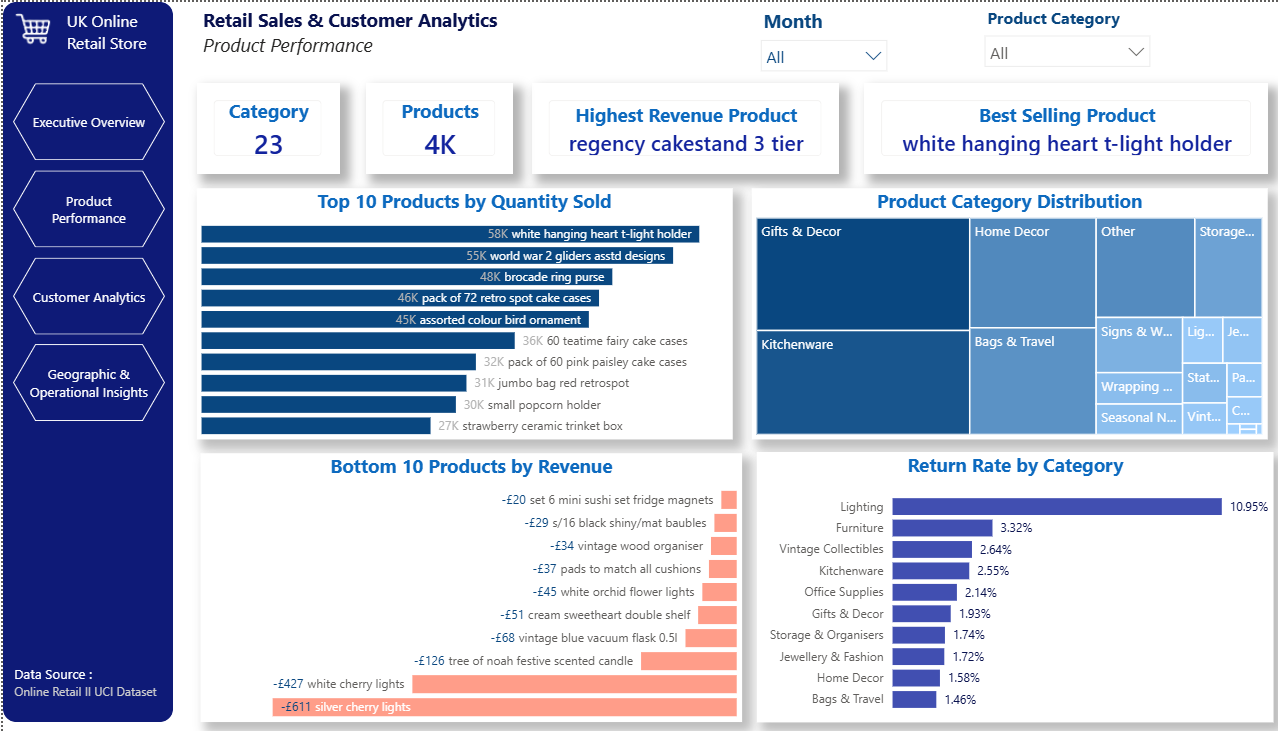

The dashboard page shown, as its layout file describes it:
{"tool":"powerbi","page":{"name":"Product Performance","canvas":[1280,731],"ordinal":1},"visuals":[{"type":"group","id":"g1","title":"Group 1","box":[0,0,170,720],"z":0},{"type":"textbox","box":[6.9,656.9,155.1,63.1],"z":1000},{"type":"group","id":"g2","title":"Group 2","box":[194.9,0,961.6,72.9],"z":2000},{"type":"cardVisual","title":"Product Category","fields":{"Data":["Sales.Category"]},"box":[194.3,81.4,142.9,90],"z":3000},{"type":"textbox","box":[194.9,0,334.8,60.4],"z":4000,"group":"g2"},{"type":"cardVisual","fields":{"Data":["CategoryLookup.Products"]},"box":[362.9,81.4,147.1,90],"z":4000},{"type":"cardVisual","fields":{"Data":["Sales.Best Selling Product"]},"box":[528.6,81.4,307.1,90],"z":5000},{"type":"shape","box":[0,0,170,720],"z":6000,"group":"g1"},{"type":"cardVisual","fields":{"Data":["Sales.Best Selling Product1"]},"box":[861.4,81.4,404.3,90],"z":6000},{"type":"image","box":[8.8,10,42.5,33.8],"z":7000,"group":"g1"},{"type":"clusteredBarChart","title":"Top 10 Products by Quantity Sold","fields":{"Category":["Sales.Description"],"Y":["Sum(Sales.Quantity)"]},"box":[194.3,186.7,535.7,251.4],"z":7000},{"type":"textbox","box":[58.8,2.5,103.8,57.5],"z":8000,"group":"g1"},{"type":"barChart","title":"Bottom 10 Products by Revenue","fields":{"Y":["CategoryLookup.Total Revenue"],"Category":["Sales.Description"]},"box":[197.1,451.4,541.4,268.6],"z":8000},{"type":"pageNavigator","box":[10,81.4,152.9,341.4],"z":8500,"group":"g1"},{"type":"treemap","title":"Product Category Distribution","fields":{"Group":["Sales.Product Category"],"Values":["CategoryLookup.Total Revenue"]},"box":[748.6,186.7,515.7,251.4],"z":9000},{"type":"slicer","fields":{"Values":["Date Table.Month Name","Date Table.Year"]},"box":[747.9,1.4,146.8,70],"z":10000,"group":"g2"},{"type":"clusteredBarChart","title":"Return Rate by Category","fields":{"Category":["Sales.Product Category"],"Y":["CategoryLookup.Return Rate %"]},"box":[754.3,450,517.1,270],"z":10000},{"type":"slicer","fields":{"Values":["Sales.Product Category"]},"box":[970.8,0,185.7,72.9],"z":11000,"group":"g2"}]}

Visuals, with their boxes on the page's 1280x731 design canvas (x1, y1, x2, y2). These are canvas units, not pixel positions in the 1278x731 screenshot, which may show the page scaled, cropped or inside an application window:
"Group 1" group: [left=0, top=0, right=170, bottom=720]
textbox: [left=7, top=657, right=162, bottom=720]
"Group 2" group: [left=195, top=0, right=1156, bottom=73]
"Product Category" cardVisual: [left=194, top=81, right=337, bottom=171]
textbox: [left=195, top=0, right=530, bottom=60]
cardVisual - CategoryLookup.Products: [left=363, top=81, right=510, bottom=171]
cardVisual - Sales.Best Selling Product: [left=529, top=81, right=836, bottom=171]
shape: [left=0, top=0, right=170, bottom=720]
cardVisual - Sales.Best Selling Product1: [left=861, top=81, right=1266, bottom=171]
image: [left=9, top=10, right=51, bottom=44]
"Top 10 Products by Quantity Sold" clusteredBarChart: [left=194, top=187, right=730, bottom=438]
textbox: [left=59, top=2, right=163, bottom=60]
"Bottom 10 Products by Revenue" barChart: [left=197, top=451, right=738, bottom=720]
pageNavigator: [left=10, top=81, right=163, bottom=423]
"Product Category Distribution" treemap: [left=749, top=187, right=1264, bottom=438]
slicer - Date Table.Month Name x Date Table.Year: [left=748, top=1, right=895, bottom=71]
"Return Rate by Category" clusteredBarChart: [left=754, top=450, right=1271, bottom=720]
slicer - Sales.Product Category: [left=971, top=0, right=1156, bottom=73]
